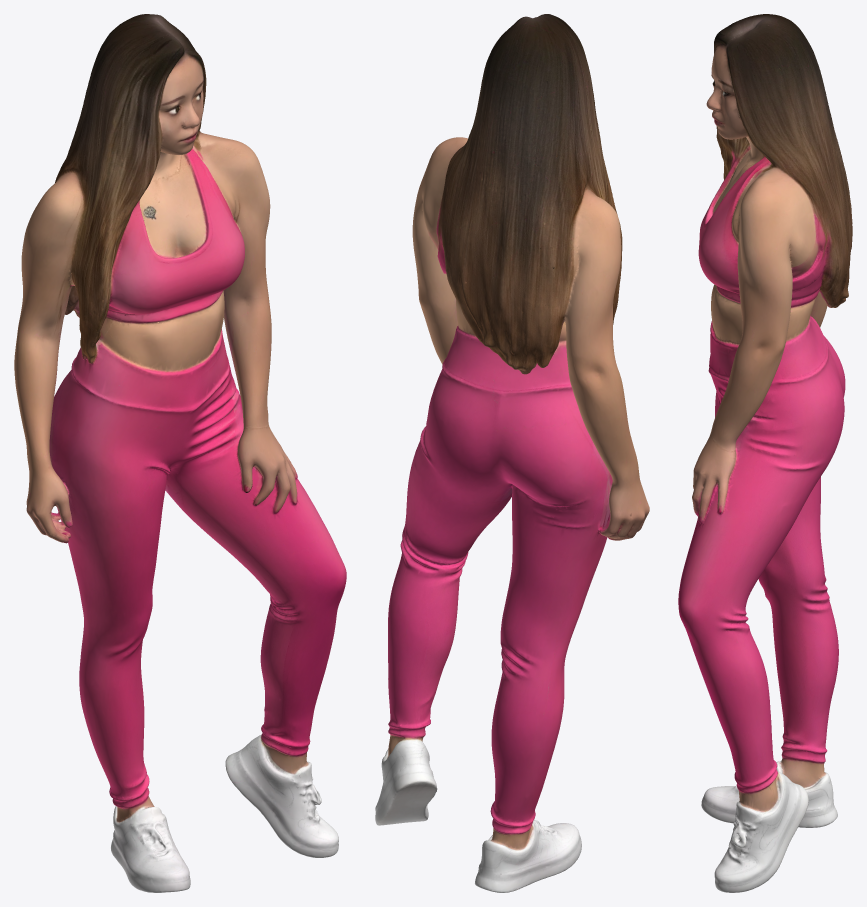
File: sport.glb
3 renders of one model, left to right at view 1: azimuth 30°, elevation 25°; view 2: azimuth 150°, elevation 25°; view 3: azimuth 270°, elevation 25°, orthographic. The views are drawn at different scales.
Visible parts, largest first — view 1: mesh_0; view 2: mesh_0; view 3: mesh_0.
Part boxes in pixels (x1,y1,x2,y2): mesh_0: (14,14,346,892); mesh_0: (375,14,649,892); mesh_0: (678,14,852,892).
Size of the model in its own units: 0.6631 by 1.9 by 0.3743.
Materials: 1 (1 with a texture image).
